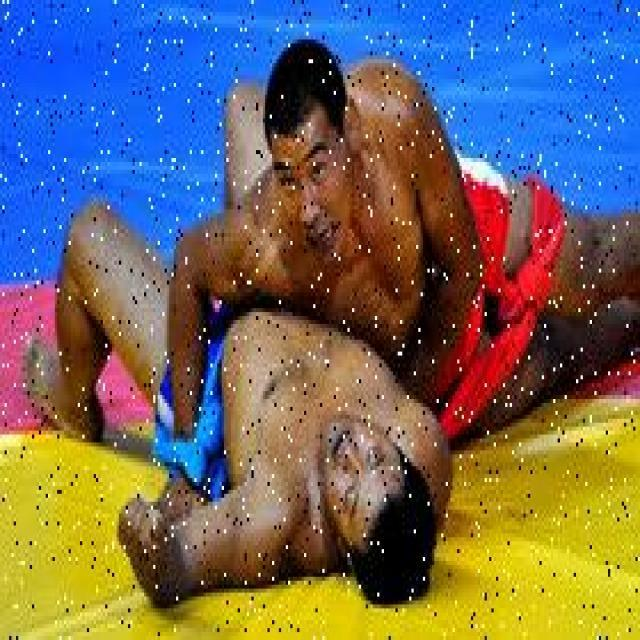fall: (58, 130, 462, 596)
